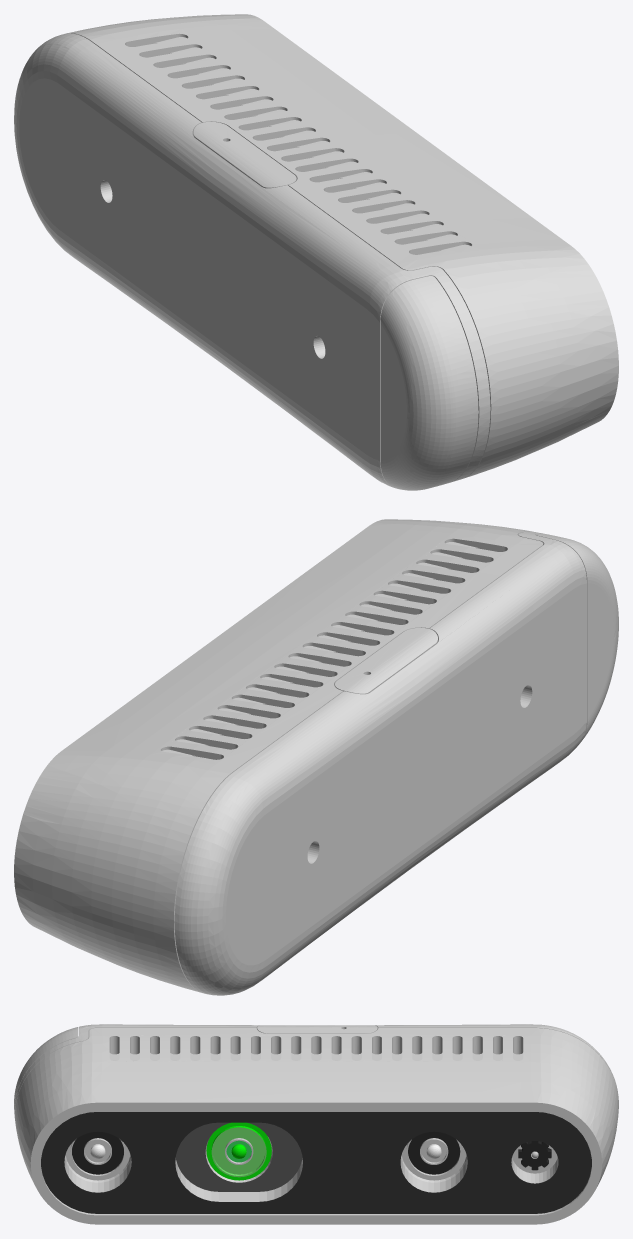
3 views of the same model, one above another, from view 1: azimuth 30°, elevation 25°; view 2: azimuth 150°, elevation 25°; view 3: azimuth 270°, elevation 25° (orthographic). The views are drawn at different scales.
Visible parts, largest first — view 1: D435i; view 2: D435i; view 3: D435i, D435i.001, D435i.006, D435i.002, D435i.011, D435i.012, D435i.005, D435i.010, D435i.003.
Part boxes in pixels (x1,y1,x2,y2): D435i: (14, 14, 618, 490); D435i: (14, 519, 618, 995); D435i: (14, 1024, 618, 1224); D435i.001: (41, 1112, 591, 1213); D435i.006: (175, 1122, 302, 1191); D435i.002: (211, 1127, 266, 1177); D435i.011: (408, 1131, 460, 1174); D435i.012: (72, 1131, 123, 1174); D435i.005: (206, 1122, 271, 1180); D435i.010: (518, 1141, 551, 1170); D435i.003: (226, 1140, 251, 1162).
Size of the model in its own units: 0.025 by 0.09 by 0.025.
